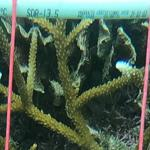alive: (1, 1, 148, 147)
